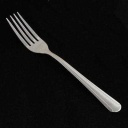Fork: (2, 7, 125, 115)
